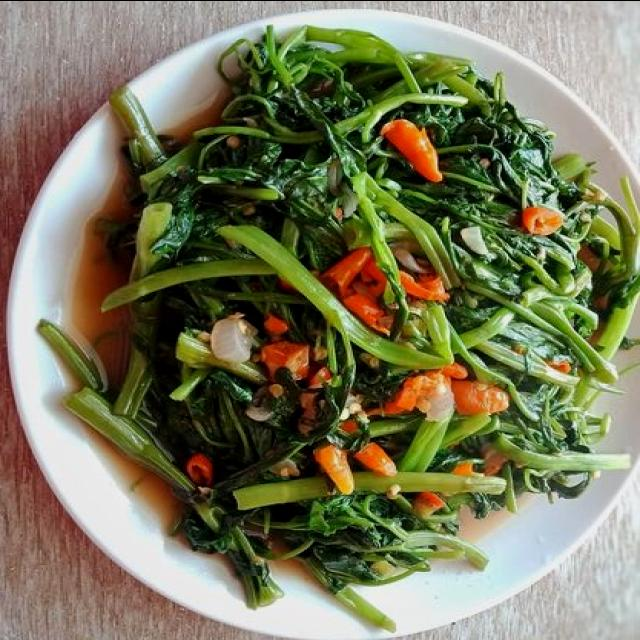tumis kangkung: (40, 23, 640, 597)
